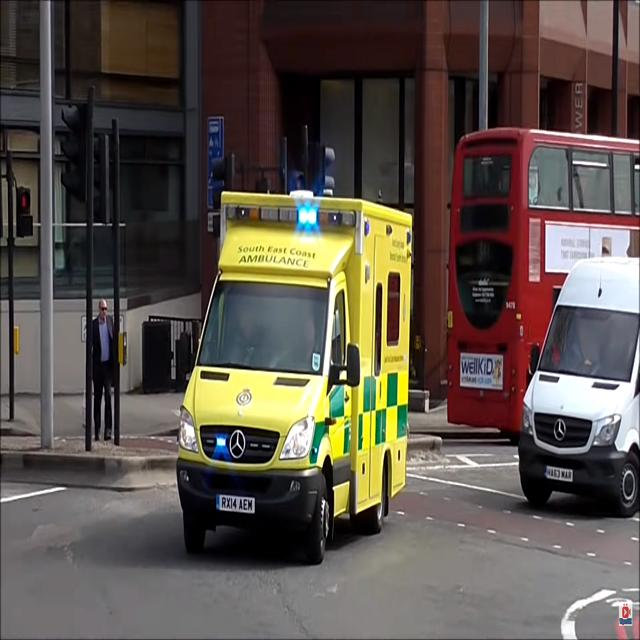emergency-vehicles: (160, 174, 427, 577)
